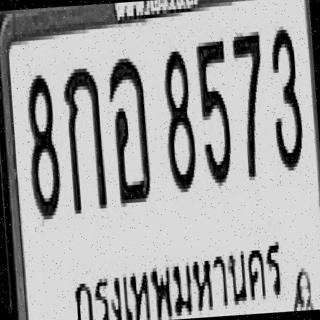A01: (61, 64, 108, 214)
A43: (105, 52, 153, 205)
N03: (267, 23, 305, 173)
N05: (195, 37, 234, 187)
N07: (230, 28, 270, 181)
N08: (22, 71, 62, 220), (160, 47, 197, 193)
P04: (66, 225, 288, 320)
